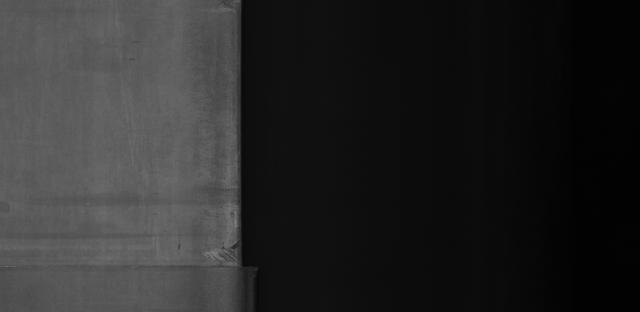welding_line: (5, 249, 266, 282)
